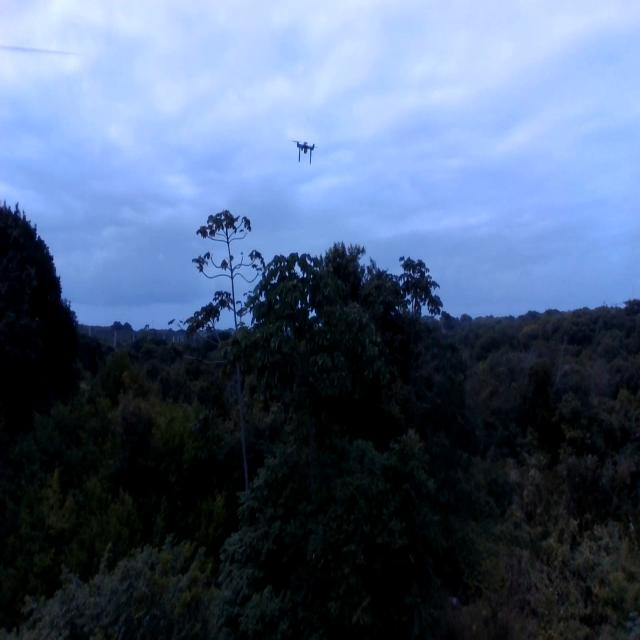-uav-: (286, 128, 322, 177)
